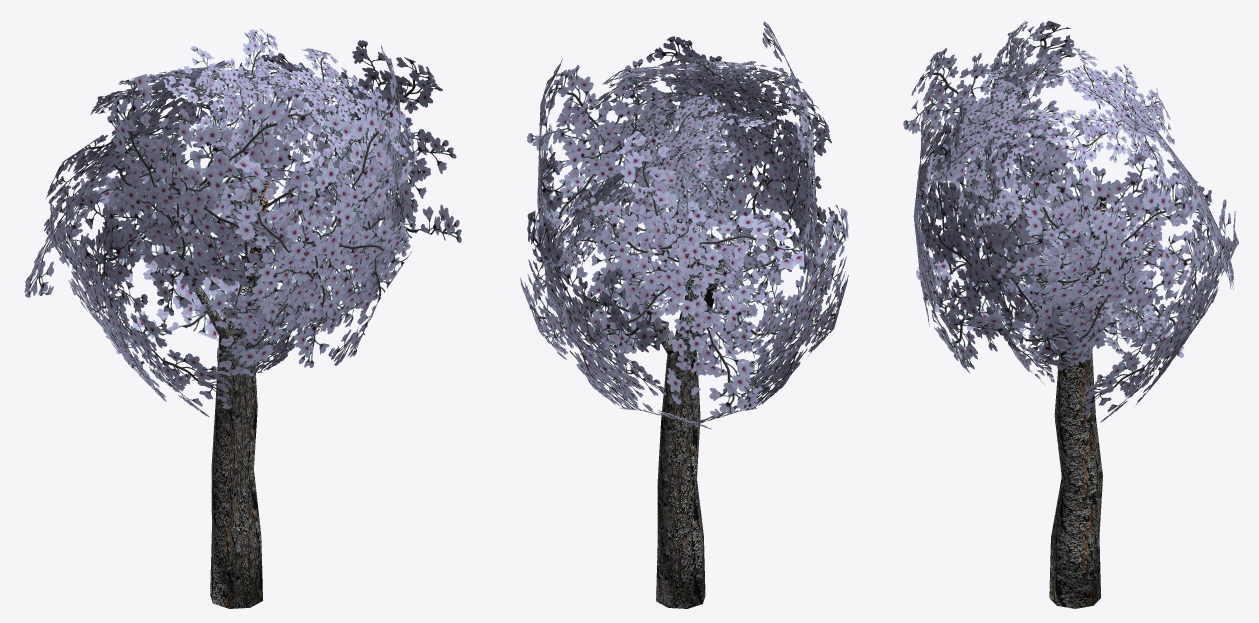
Rendered from arbol blanco.fbx.
3 renders of one model, left to right at view 1: azimuth 30°, elevation 25°; view 2: azimuth 150°, elevation 25°; view 3: azimuth 270°, elevation 25°, orthographic. The views are drawn at different scales.
Visible parts, largest first — view 1: Plane002, Plane005, Cylinder001, Plane011, Plane009, Plane010, Plane006, Plane004, Plane013, Plane003, Plane012, Plane008 (+1 smaller); view 2: Plane010, Cylinder001, Plane003, Plane013, Plane002, Plane011, Plane012, Plane006, Plane005, Plane008, Plane009, Plane007 (+1 smaller); view 3: Plane009, Plane003, Cylinder001, Plane005, Plane004, Plane013, Plane012, Plane011, Plane007, Plane002, Plane006, Plane010 (+1 smaller).
Boxes of the visible parts, x1,y1,x2,y2 form: Plane002: (199,91,417,376); Plane005: (76,74,321,338); Cylinder001: (169,180,269,608); Plane011: (46,186,230,417); Plane009: (238,40,461,270); Plane010: (24,60,264,297); Plane006: (163,29,320,195); Plane004: (241,48,413,177); Plane013: (80,110,387,354); Plane003: (313,45,403,365); Plane012: (90,65,303,124); Plane008: (191,235,339,380); Plane010: (536,131,804,417); Cylinder001: (614,224,723,608); Plane003: (527,56,739,296); Plane013: (520,207,711,429); Plane002: (645,36,846,295); Plane011: (672,205,848,432); Plane012: (614,93,775,227); Plane006: (639,57,815,161); Plane005: (757,21,818,308); Plane008: (613,210,792,362); Plane009: (537,59,595,349); Plane007: (533,155,659,296); Plane009: (948,161,1200,370); Plane003: (919,102,1084,370); Cylinder001: (1027,196,1111,608); Plane005: (903,21,1103,295); Plane004: (924,67,1070,226); Plane013: (1083,199,1238,422); Plane012: (1057,47,1174,194); Plane011: (916,131,1211,357); Plane007: (987,206,1167,354); Plane002: (913,90,969,373); Plane006: (984,21,1067,187); Plane010: (1123,106,1233,289).
Size of the model in its own units: 2.46 by 3.81 by 2.2.
Materials: 2 (2 with a texture image).
